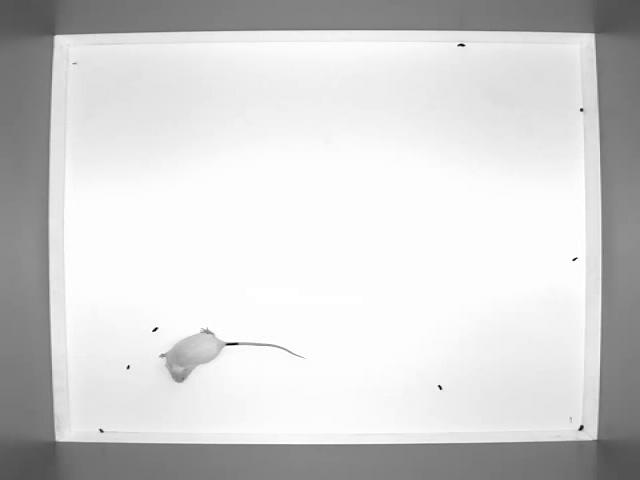Tikus: (158, 325, 304, 385)
